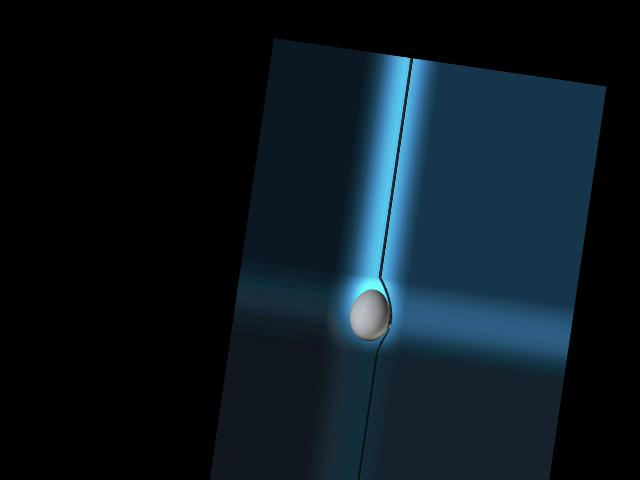egg: (347, 287, 393, 343)
